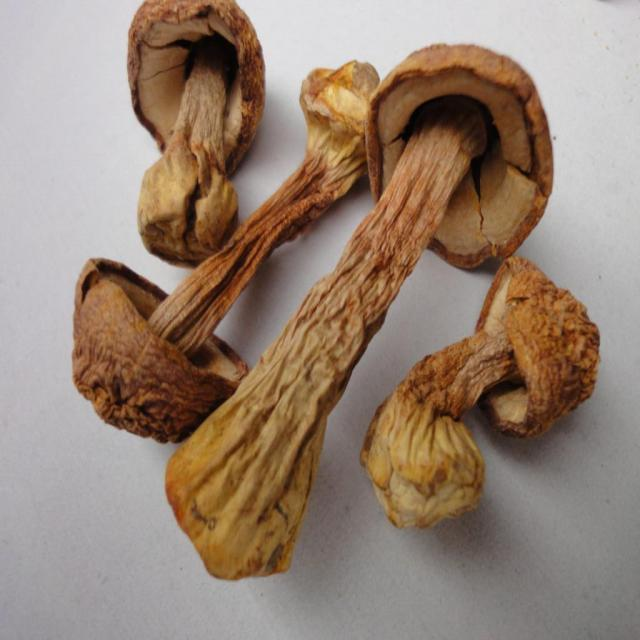Agaricus blazei Murill: (166, 46, 554, 576), (72, 63, 387, 446), (367, 262, 605, 525), (121, 2, 261, 245)
